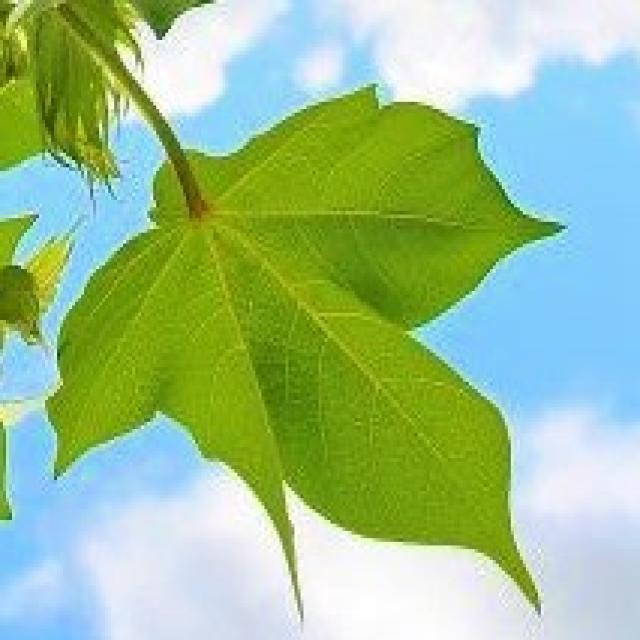Healthy Leaf: (6, 11, 637, 640)
